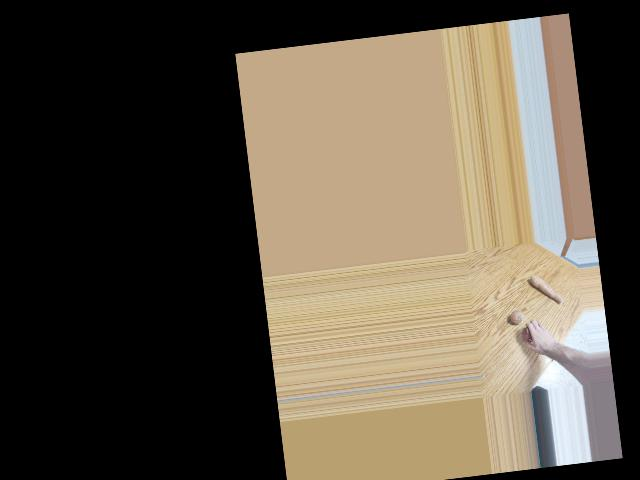onion: (521, 325, 538, 342)
